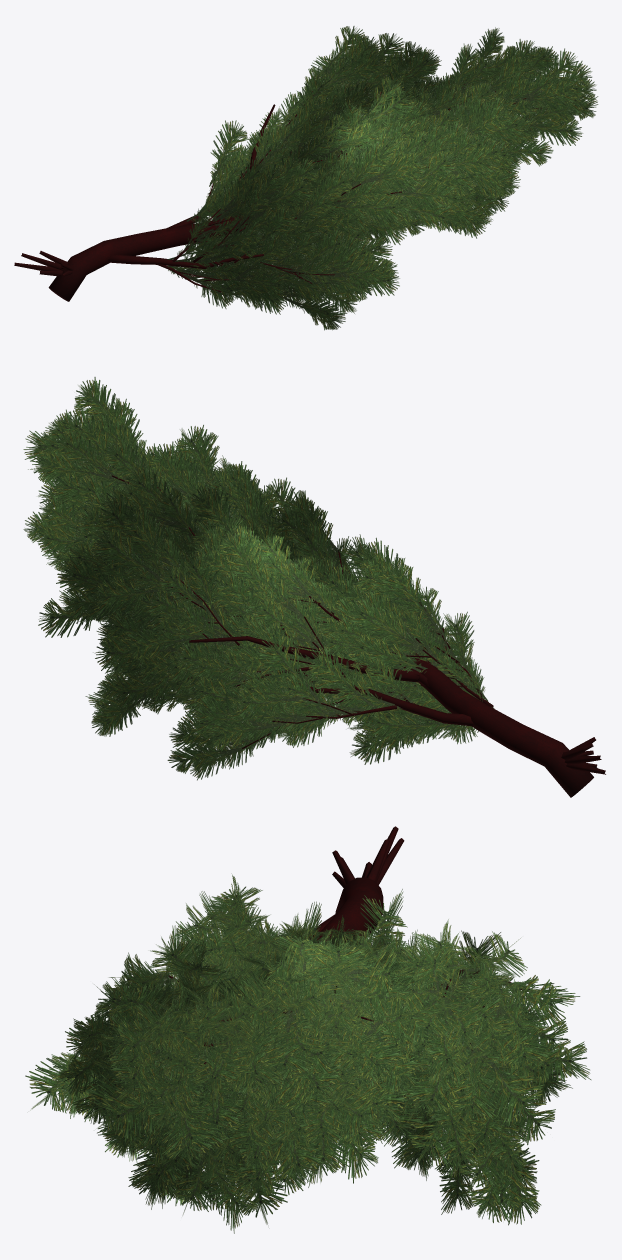
The model's file is krummholz_pine_v01.glb.
3 views of the same model, one above another, from view 1: azimuth 30°, elevation 25°; view 2: azimuth 150°, elevation 25°; view 3: azimuth 270°, elevation 25° (orthographic). The views are drawn at different scales.
Visible parts, largest first — view 1: krummholz_pine_v01; view 2: krummholz_pine_v01; view 3: krummholz_pine_v01.
Boxes of the visible parts, x1,y1,x2,y2 form: krummholz_pine_v01: (14, 26, 598, 330); krummholz_pine_v01: (23, 377, 605, 797); krummholz_pine_v01: (25, 826, 591, 1233).
Size of the model in its own units: 4.35 by 1.93 by 2.4.
Materials: 2 (2 with a texture image).
